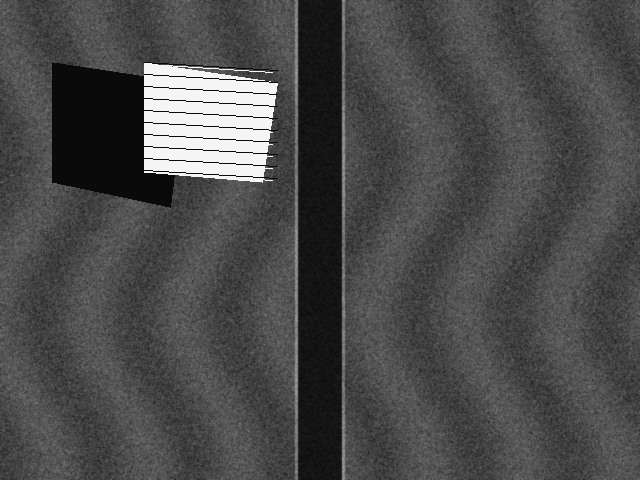Fishing Gear: (144, 62, 277, 182)
